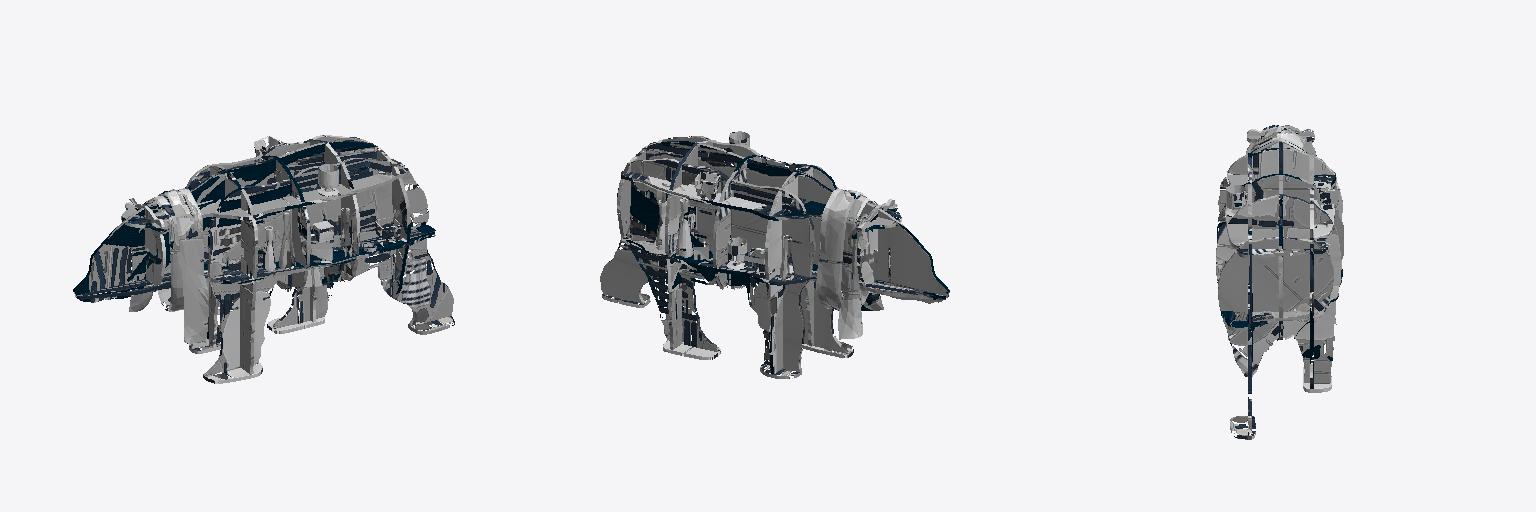
3 renders of one model, left to right at view 1: azimuth 30°, elevation 25°; view 2: azimuth 150°, elevation 25°; view 3: azimuth 270°, elevation 25°, orthographic.
Parts seen in each view (by area): view 1: solid_010, solid_001, solid_007, glass_001, solid_003, solid_008; view 2: solid_010, solid_001, solid_007, glass_001, solid_008; view 3: solid_010, solid_001, glass_001, solid_007.
Part boxes in pixels (left/top/right/bottom): solid_010: left=75, top=135, right=453, bottom=383; solid_001: left=73, top=135, right=454, bottom=383; solid_007: left=129, top=188, right=208, bottom=343; glass_001: left=254, top=136, right=401, bottom=246; solid_003: left=310, top=221, right=333, bottom=262; solid_008: left=279, top=210, right=295, bottom=268; solid_010: left=600, top=136, right=947, bottom=378; solid_001: left=602, top=136, right=949, bottom=378; solid_007: left=817, top=189, right=883, bottom=339; glass_001: left=695, top=131, right=749, bottom=269; solid_008: left=676, top=198, right=692, bottom=257; solid_010: left=1216, top=125, right=1343, bottom=435; solid_001: left=1216, top=125, right=1343, bottom=439; glass_001: left=1226, top=181, right=1340, bottom=216; solid_007: left=1248, top=127, right=1307, bottom=181.
Bounding box in the file's own units: 1.99 × 1 × 0.6102.
1 materials, 1 textured.